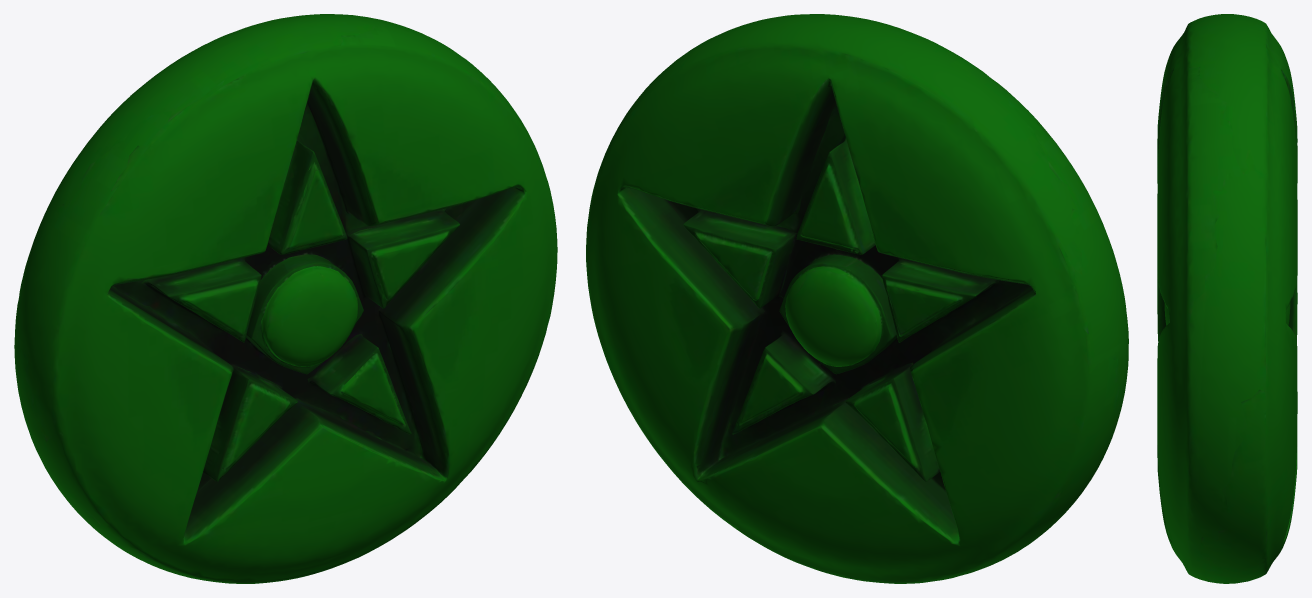
Rendered from PINVA0_2026-08-30T140835.673.glb.
The picture shows the model from 3 angles, left to right: view 1: azimuth 30°, elevation 25°; view 2: azimuth 150°, elevation 25°; view 3: azimuth 270°, elevation 25°; orthographic projection. The views are drawn at different scales.
Visible parts, largest first — view 1: world; view 2: world; view 3: world.
Part boxes in pixels (bbox=[...]): world: bbox=[14, 14, 557, 583]; world: bbox=[586, 14, 1128, 583]; world: bbox=[1157, 14, 1297, 583].
Size of the model in its own units: 1 by 1 by 0.2471.
Materials: 1 (1 with a texture image).
